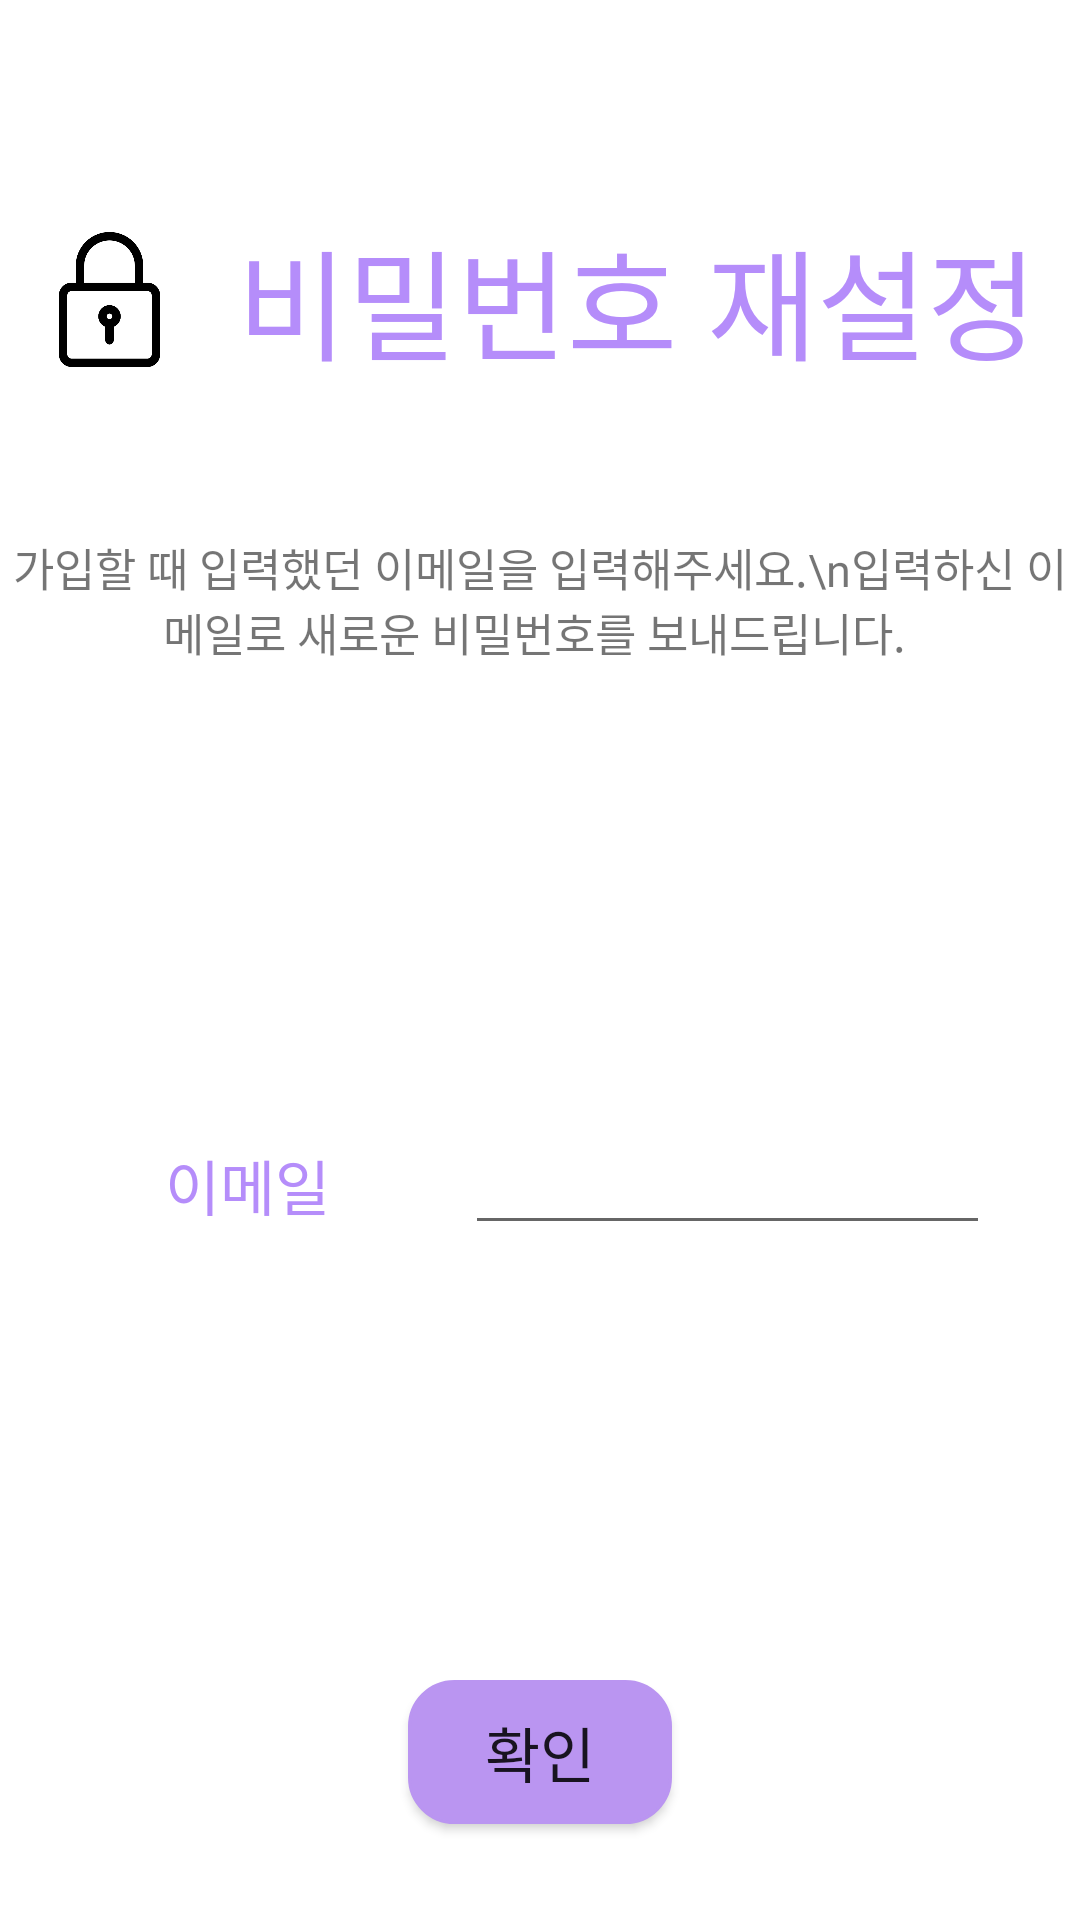

Icons on this 1080×1920 Android screen, each with the point to tap as point (x, y):
lock: point (109, 299)
